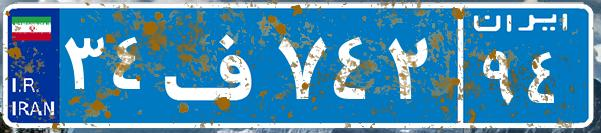2: (385, 28, 445, 110)
3: (57, 26, 110, 107)
4: (330, 28, 385, 110), (110, 28, 158, 105), (525, 38, 570, 115)
7: (273, 28, 330, 110)
9: (475, 38, 525, 113)
ف: (158, 15, 273, 115)
